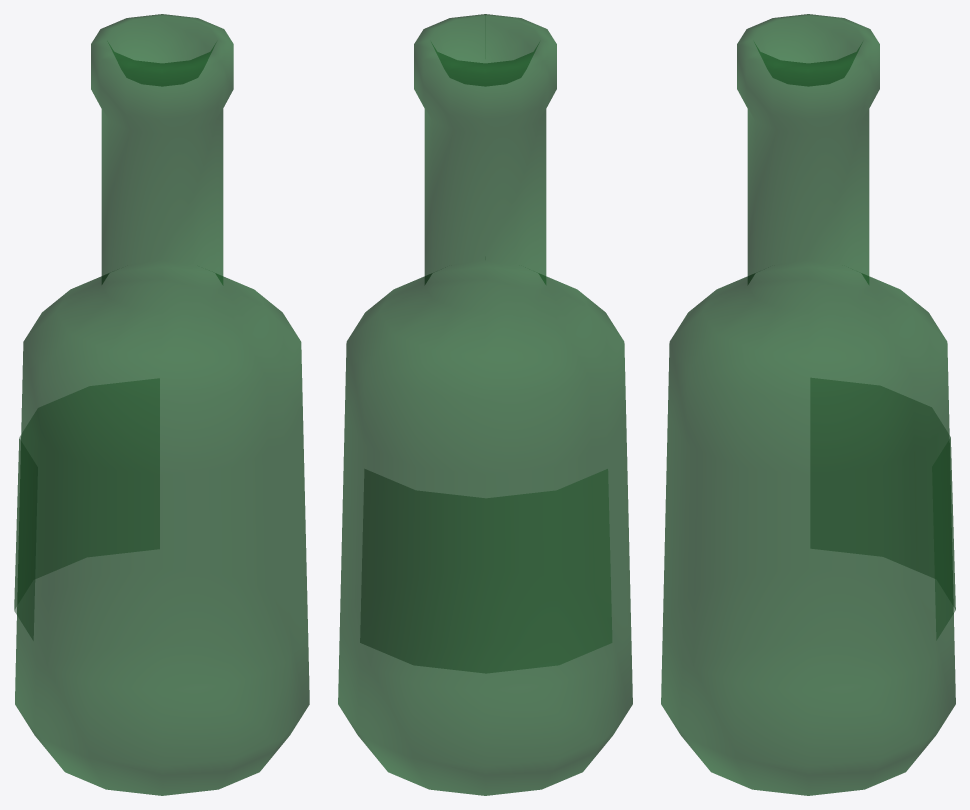
The model's file is Bottle (2).fbx.
3 renders of one model, left to right at view 1: azimuth 30°, elevation 25°; view 2: azimuth 150°, elevation 25°; view 3: azimuth 270°, elevation 25°, orthographic.
Parts seen in each view (by area): view 1: Cylinder, Cylinder.003; view 2: Cylinder, Cylinder.003; view 3: Cylinder, Cylinder.003.
Boxes of the visible parts, x1,y1,x2,y2 form: Cylinder: [15, 14, 309, 795]; Cylinder.003: [14, 435, 37, 640]; Cylinder: [338, 14, 632, 795]; Cylinder.003: [360, 469, 612, 673]; Cylinder: [661, 14, 955, 795]; Cylinder.003: [932, 435, 955, 640].
Size of the model in its own units: 61.66 by 163 by 61.64.
